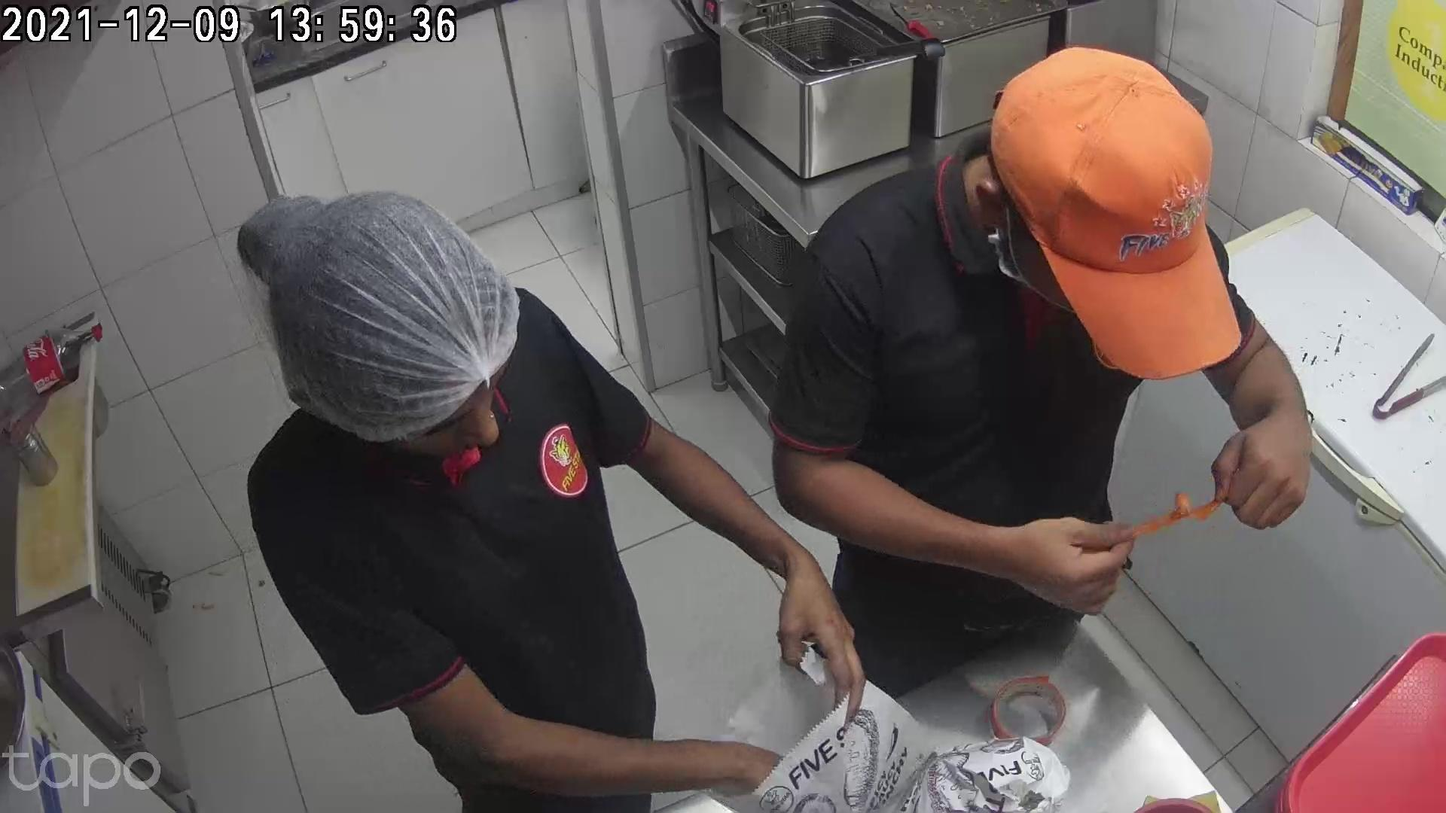no_gloves: (745, 560, 862, 715), (949, 525, 1134, 609)
